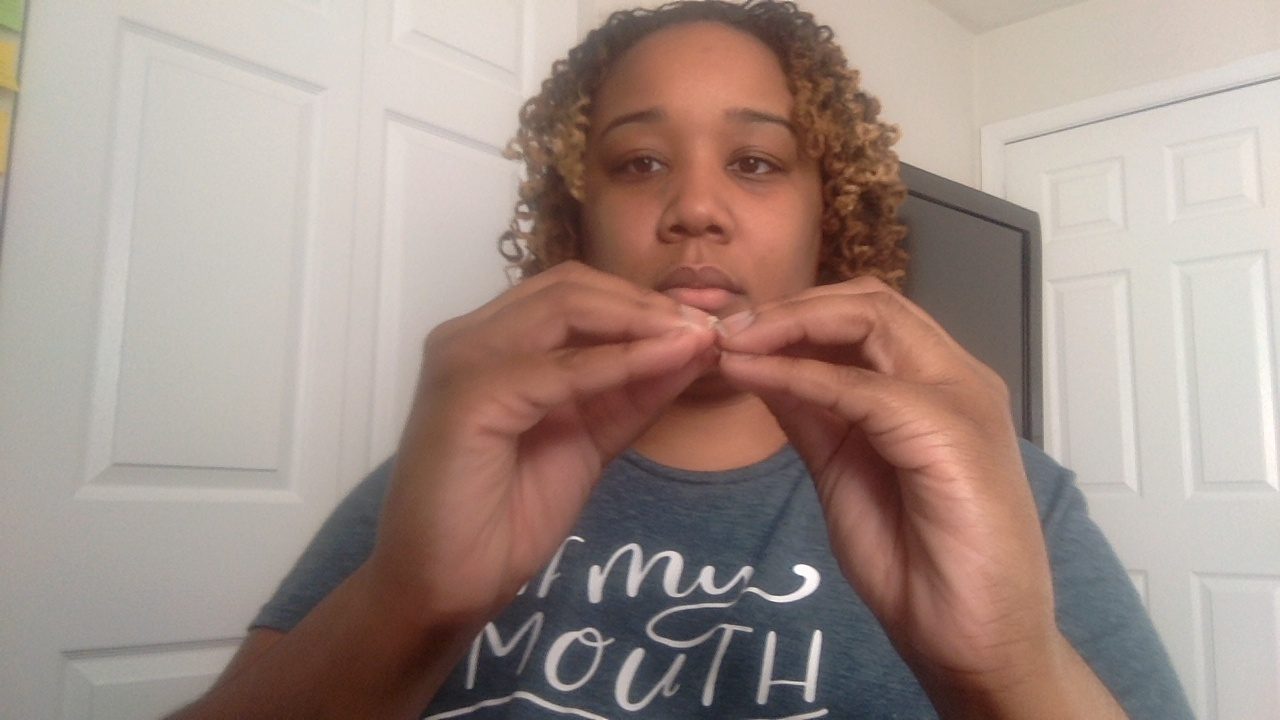more: (392, 260, 1046, 637)
